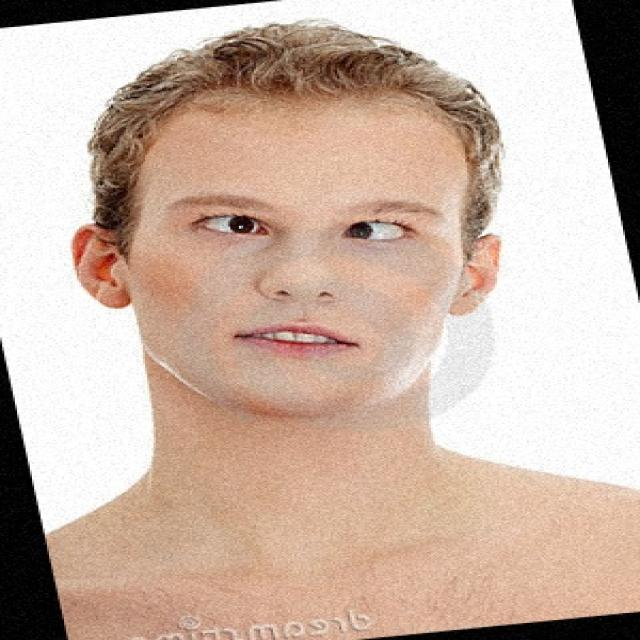Squint: (192, 202, 282, 245)
